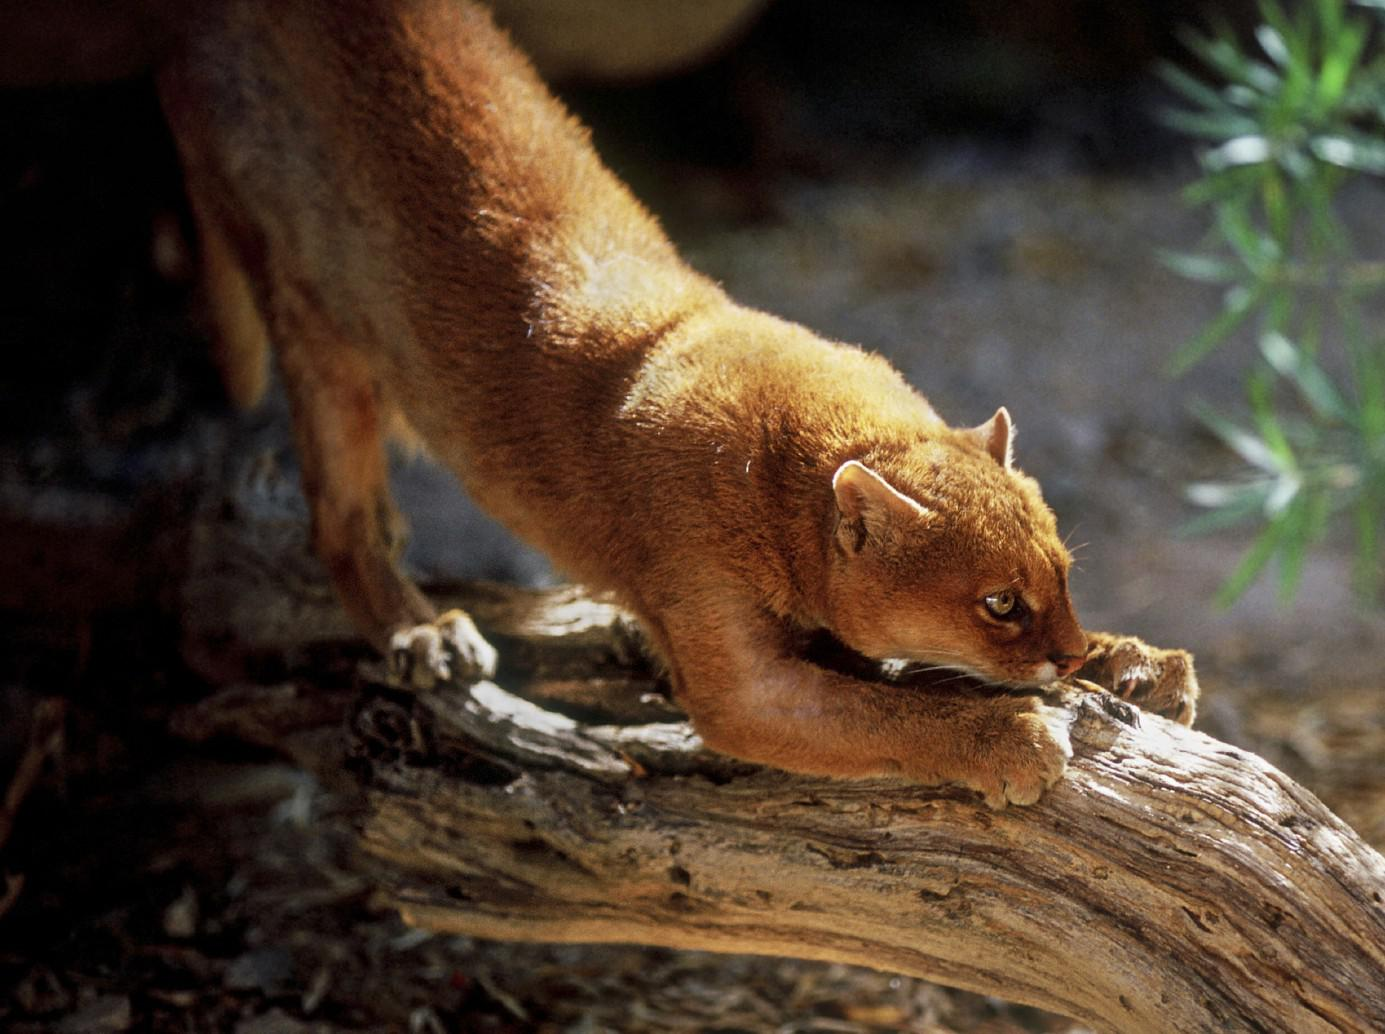Jaguarundi: (149, 2, 1218, 819)
